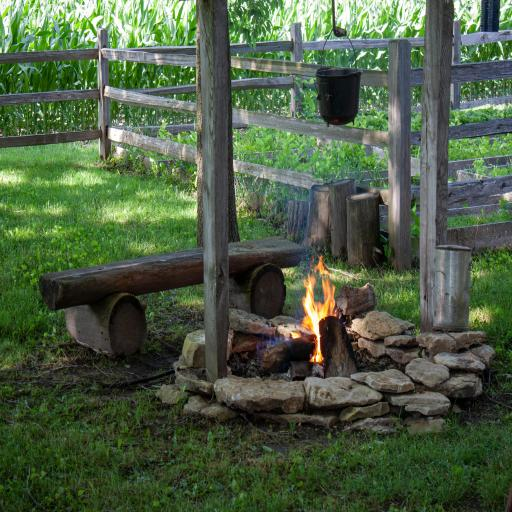campfire: (281, 242, 364, 382)
